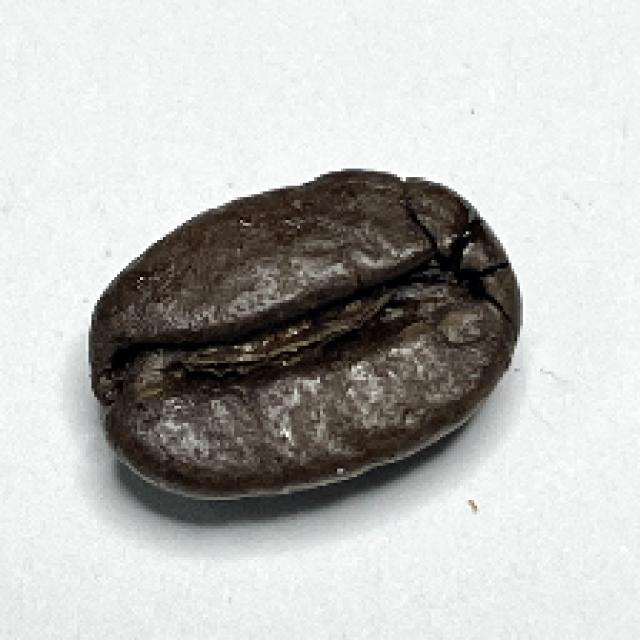bean: (84, 168, 525, 502)
